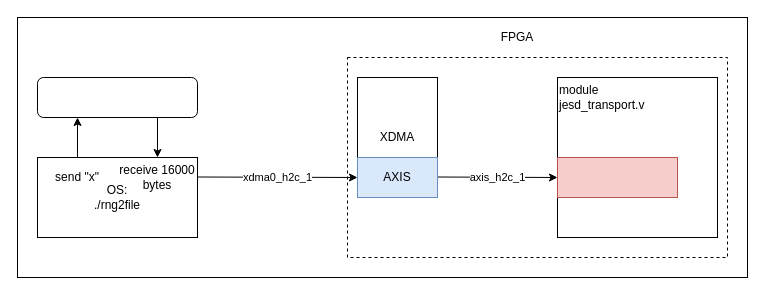
Some shapes in this 765 by 295 pixel diagram are drawn without their labels. The shapes that lost their labels are listed below. From the top down, each one's centre as x and y in pixels, then its label:
At (117,97): "SwiftRNG Pro".
At (617,177): "instantiate: fifo_128x16".
